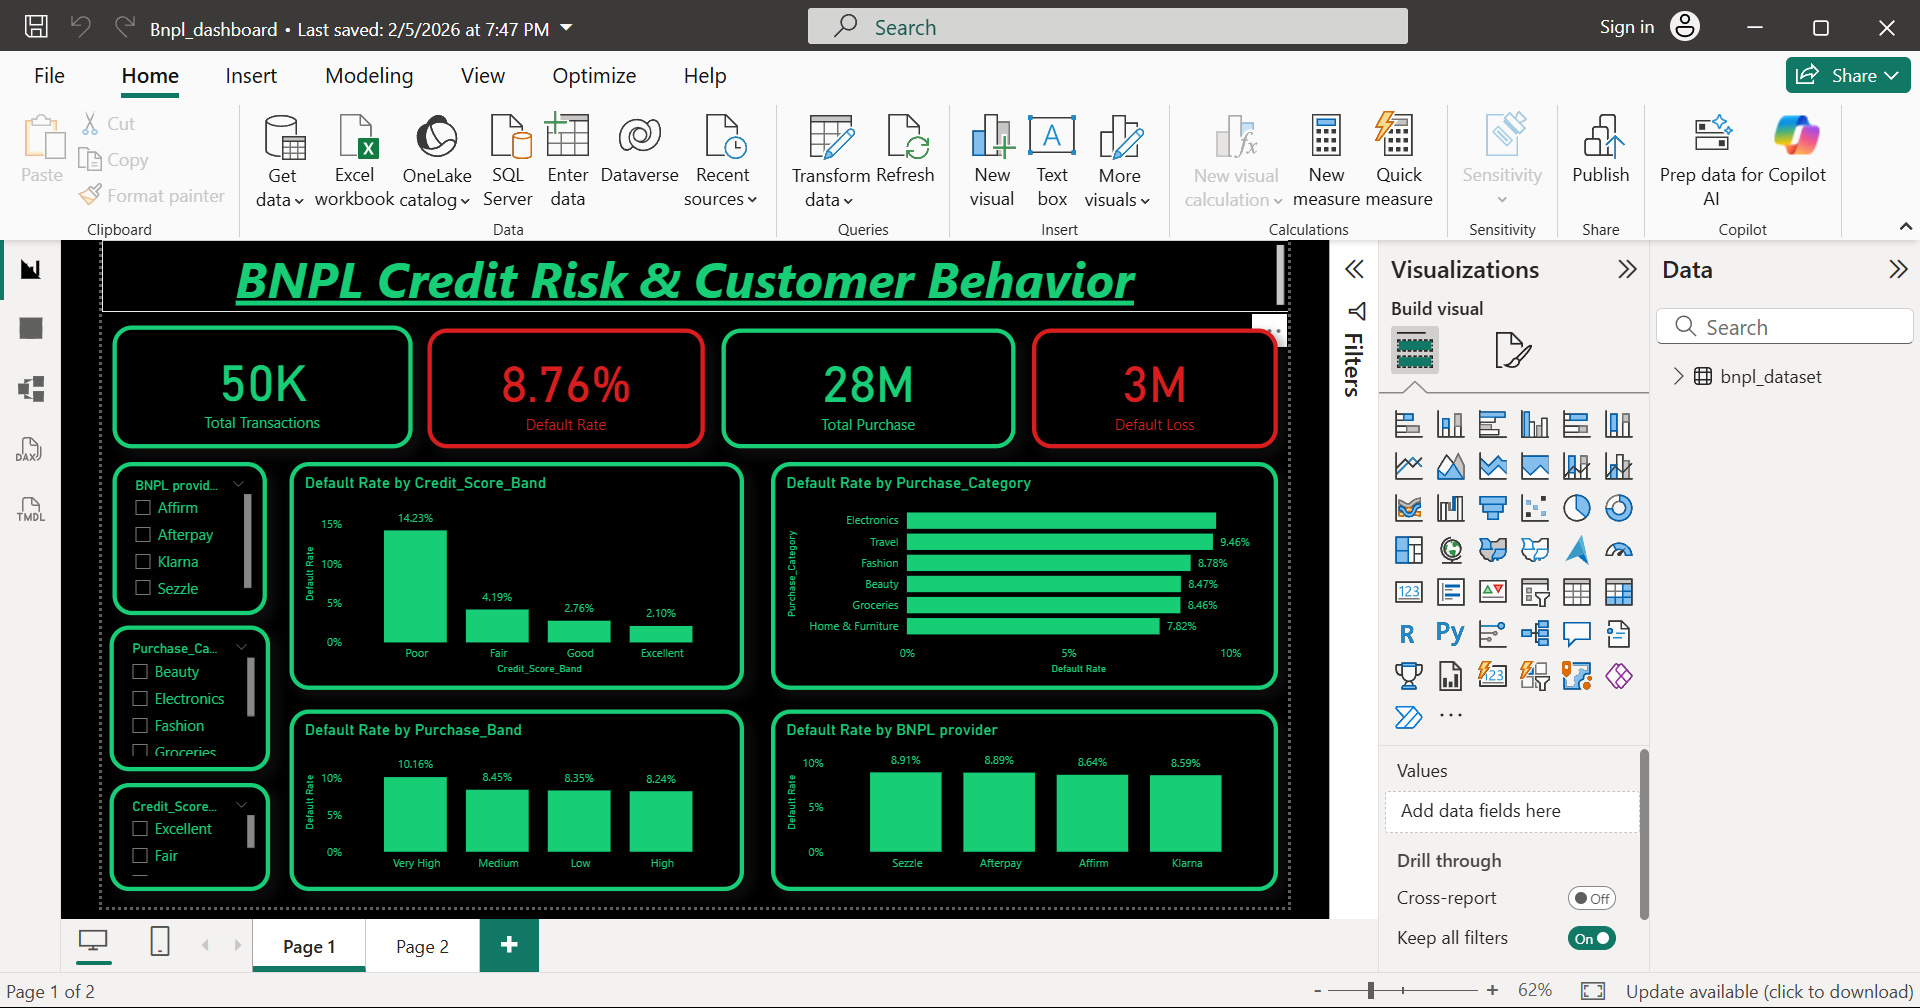

What the dashboard file says about the page in this screenshot:
{"tool":"powerbi","page":{"name":"Page 1","canvas":[1280,720],"ordinal":0},"visuals":[{"type":"textbox","box":[0,0,1280.8,77.7],"z":0},{"type":"card","fields":{"Values":["bnpl_dataset.Total Transactions"]},"box":[11.3,92.3,323.8,132.8],"z":1000},{"type":"card","fields":{"Values":["bnpl_dataset.Total Purchase"]},"box":[668.7,95.5,317.4,129.5],"z":2000},{"type":"card","fields":{"Values":["bnpl_dataset.Default Rate"]},"box":[351.4,95.5,299.6,129.5],"z":3000},{"type":"card","fields":{"Values":["bnpl_dataset.Default Loss"]},"box":[1003.9,95.5,265.6,129.5],"z":4000},{"type":"clusteredColumnChart","fields":{"Category":["bnpl_dataset.Credit_Score_Band"],"Y":["bnpl_dataset.Default Rate"]},"box":[202.4,239.6,490.6,246.1],"z":5000},{"type":"clusteredColumnChart","fields":{"Category":["bnpl_dataset.Purchase_Band"],"Y":["bnpl_dataset.Default Rate"]},"box":[202.4,506.8,490.6,195.9],"z":6000},{"type":"clusteredBarChart","fields":{"Y":["bnpl_dataset.Default Rate"],"Category":["bnpl_dataset.Purchase_Category"]},"box":[722.2,239.6,547.3,246.1],"z":7000},{"type":"clusteredColumnChart","fields":{"Category":["bnpl_dataset.BNPL_Provider"],"Y":["bnpl_dataset.Default Rate"]},"box":[722.2,506.8,547.3,195.9],"z":8000},{"type":"slicer","fields":{"Values":["bnpl_dataset.BNPL_Provider"]},"box":[11.3,239.6,166.8,165.2],"z":8001},{"type":"slicer","fields":{"Values":["bnpl_dataset.Purchase_Category"]},"box":[8.1,416.1,173.3,157.1],"z":8002},{"type":"slicer","fields":{"Values":["bnpl_dataset.Credit_Score_Band"]},"box":[8.1,586.2,173.3,116.6],"z":8003}]}

Visuals, with their boxes on the page's 1280x720 design canvas (x1, y1, x2, y2). These are canvas units, not pixel positions in the 1920x1008 screenshot, which may show the page scaled, cropped or inside an application window:
textbox: select_region(0, 0, 1281, 78)
card - bnpl_dataset.Total Transactions: select_region(11, 92, 335, 225)
card - bnpl_dataset.Total Purchase: select_region(669, 96, 986, 225)
card - bnpl_dataset.Default Rate: select_region(351, 96, 651, 225)
card - bnpl_dataset.Default Loss: select_region(1004, 96, 1270, 225)
clusteredColumnChart - bnpl_dataset.Credit_Score_Band x bnpl_dataset.Default Rate: select_region(202, 240, 693, 486)
clusteredColumnChart - bnpl_dataset.Purchase_Band x bnpl_dataset.Default Rate: select_region(202, 507, 693, 703)
clusteredBarChart - bnpl_dataset.Default Rate x bnpl_dataset.Purchase_Category: select_region(722, 240, 1270, 486)
clusteredColumnChart - bnpl_dataset.BNPL_Provider x bnpl_dataset.Default Rate: select_region(722, 507, 1270, 703)
slicer - bnpl_dataset.BNPL_Provider: select_region(11, 240, 178, 405)
slicer - bnpl_dataset.Purchase_Category: select_region(8, 416, 181, 573)
slicer - bnpl_dataset.Credit_Score_Band: select_region(8, 586, 181, 703)
